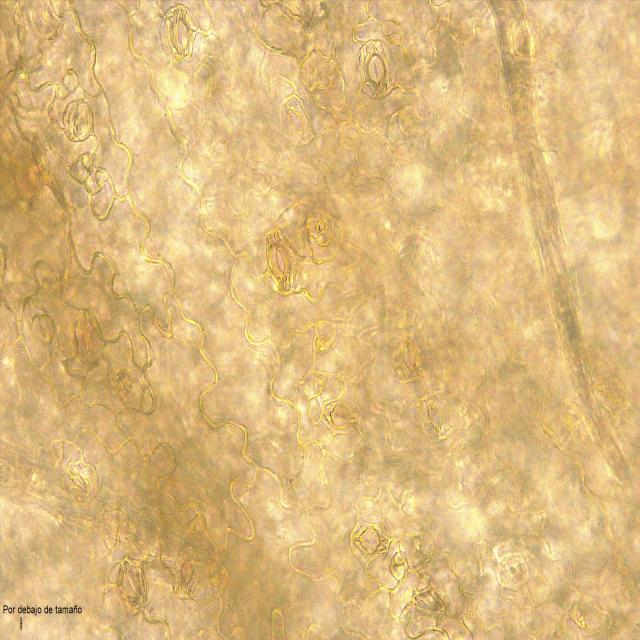Stomata: (257, 229, 303, 294), (354, 38, 398, 100), (348, 511, 392, 569), (387, 328, 430, 383), (159, 4, 198, 62), (417, 393, 454, 442), (60, 98, 96, 146), (63, 461, 99, 507), (497, 549, 530, 592)
